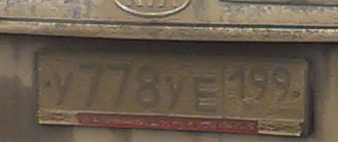character: (104, 58, 133, 112), (77, 56, 105, 108), (134, 61, 160, 111), (191, 72, 219, 114), (272, 61, 295, 107), (163, 72, 187, 115), (249, 61, 271, 106), (52, 67, 74, 107), (227, 64, 248, 105)
